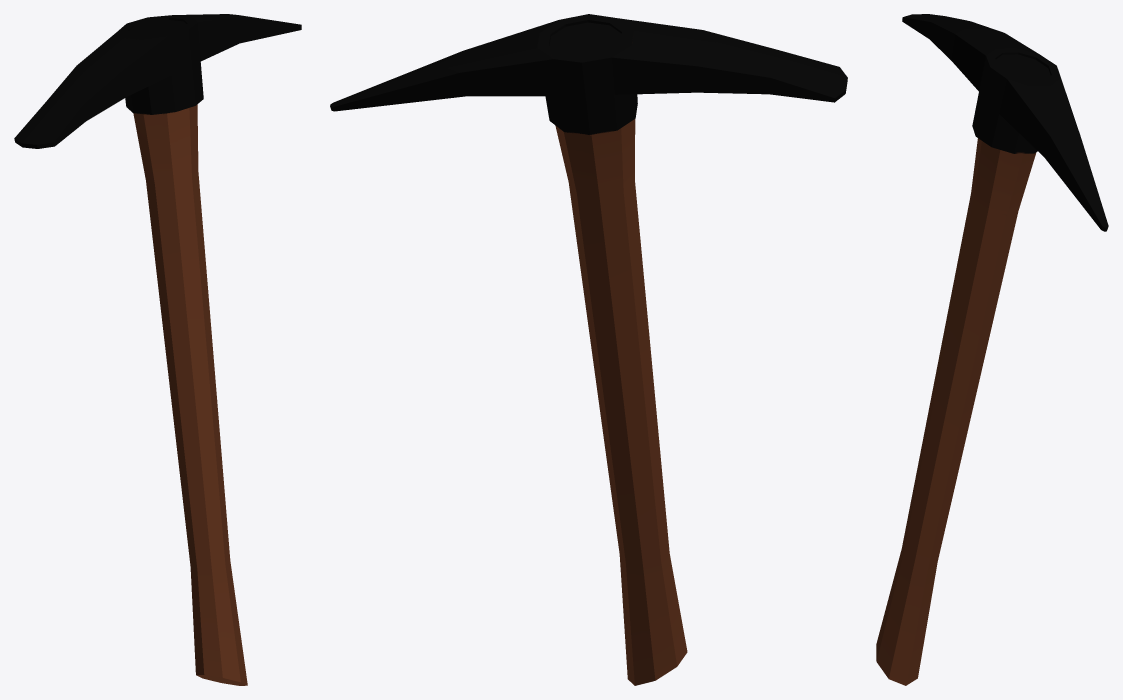
File: Pickaxe.fbx
3 renders of one model, left to right at view 1: azimuth 30°, elevation 25°; view 2: azimuth 150°, elevation 25°; view 3: azimuth 270°, elevation 25°, orthographic. The views are drawn at different scales.
Parts seen in each view (by area): view 1: node_id3; view 2: node_id3; view 3: node_id3.
Boxes of the visible parts, x1,y1,x2,y2 form: node_id3: [14, 14, 301, 685]; node_id3: [330, 14, 847, 685]; node_id3: [876, 14, 1108, 685].
Size of the model in its own units: 0.3145 by 0.5095 by 0.1745.
Materials: 1 (1 with a texture image).
